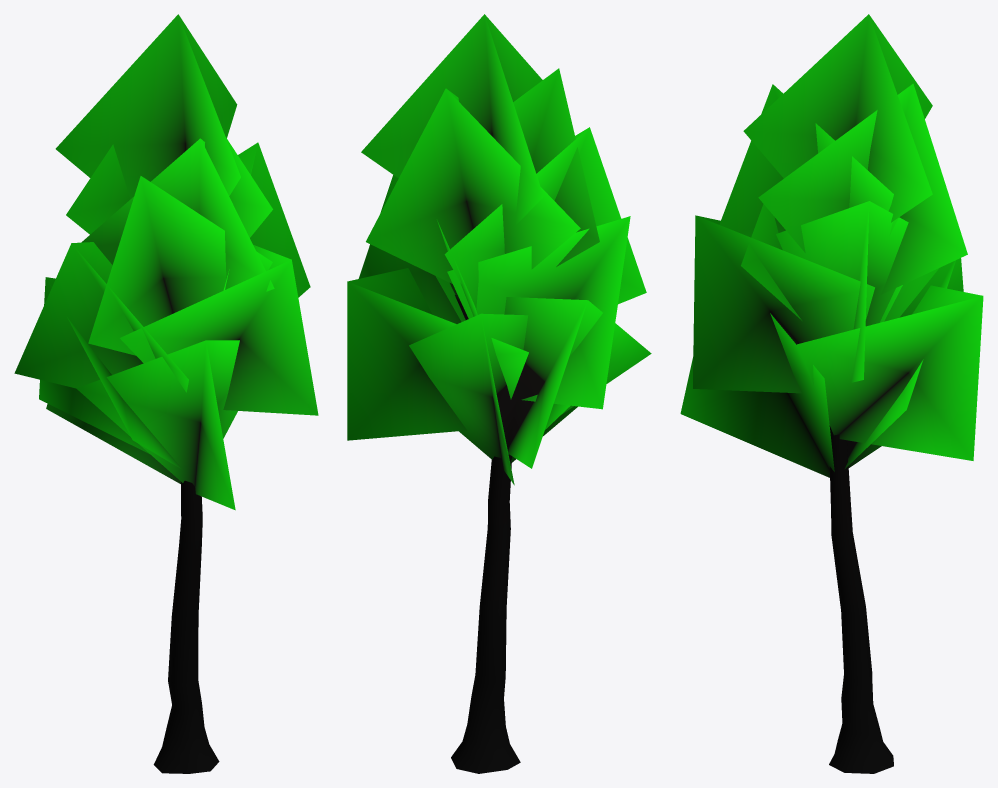
Rendered from birch_2.fbx.
The picture shows the model from 3 angles, left to right: view 1: azimuth 30°, elevation 25°; view 2: azimuth 150°, elevation 25°; view 3: azimuth 270°, elevation 25°; orthographic projection.
Parts seen in each view (by area): view 1: birch_2; view 2: birch_2; view 3: birch_2.
Part boxes in pixels (box(x1,y1,x2,y2)): birch_2: box(14, 14, 318, 773); birch_2: box(347, 14, 651, 773); birch_2: box(680, 14, 983, 773).
Size of the model in its own units: 1.57 by 4.12 by 1.52.
